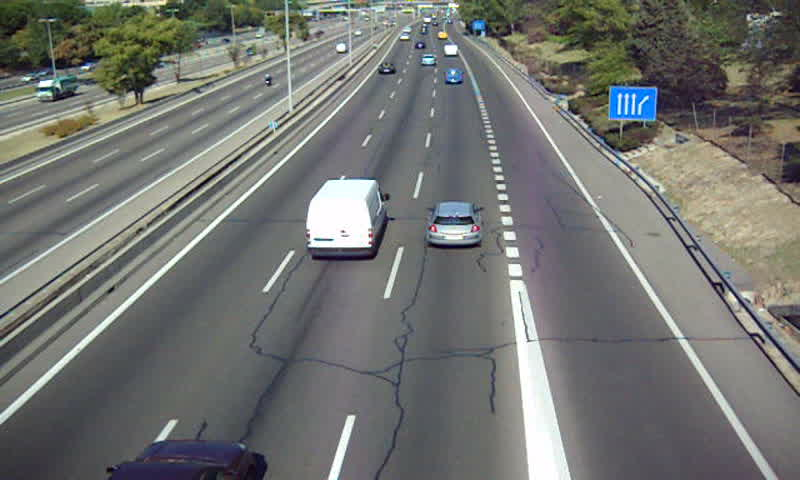car: (426, 203, 482, 247), (444, 67, 464, 84), (419, 51, 437, 66), (376, 61, 394, 74)
van: (307, 179, 387, 258)
